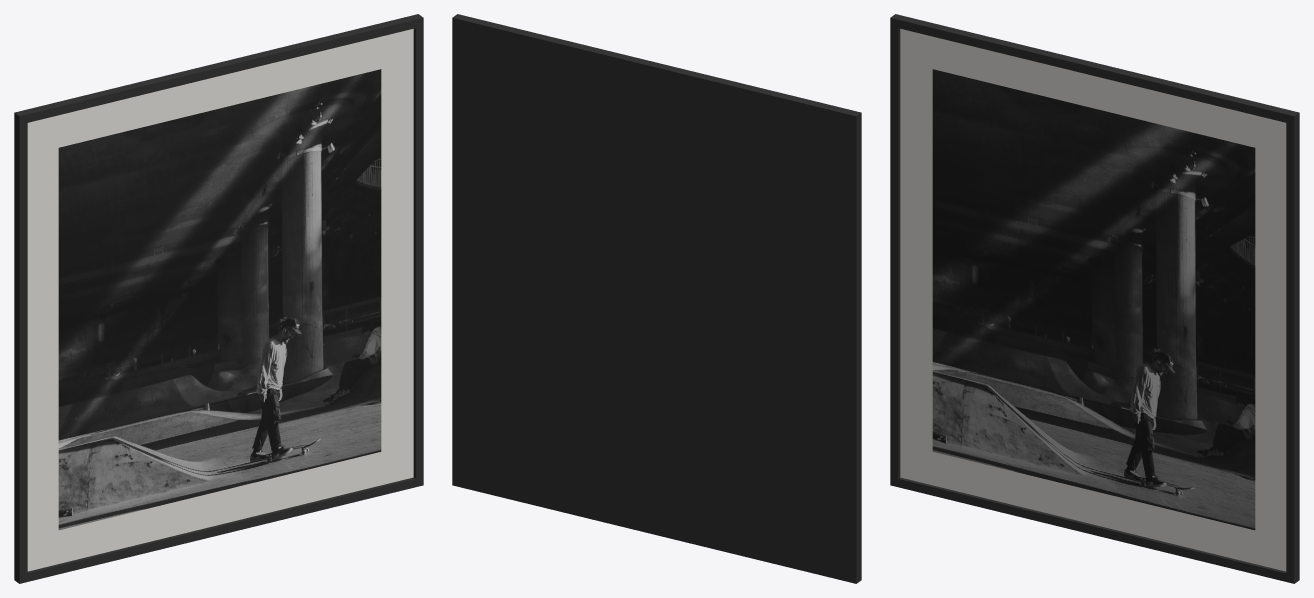
File: ljusstrimman-90.gltf
3 views of the same model, side by side, from view 1: azimuth 30°, elevation 25°; view 2: azimuth 150°, elevation 25°; view 3: azimuth 330°, elevation 25° (orthographic).
Parts seen in each view (by area): view 1: tavla; view 2: tavla; view 3: tavla.
Boxes of the visible parts, box(x1,y1,x2,y2) form: tavla: box(14, 14, 423, 583); tavla: box(452, 14, 861, 583); tavla: box(890, 14, 1299, 583).
Size of the model in its own units: 0.9948 by 1.1 by 0.022.
Materials: 3 (1 with a texture image).
